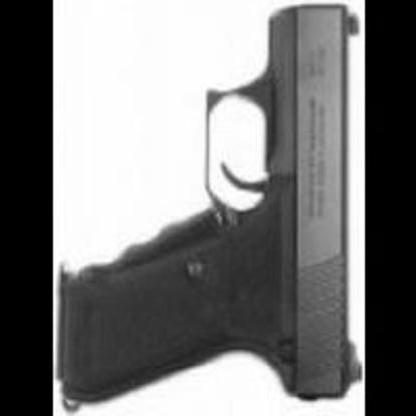weapon: (59, 5, 361, 414)
